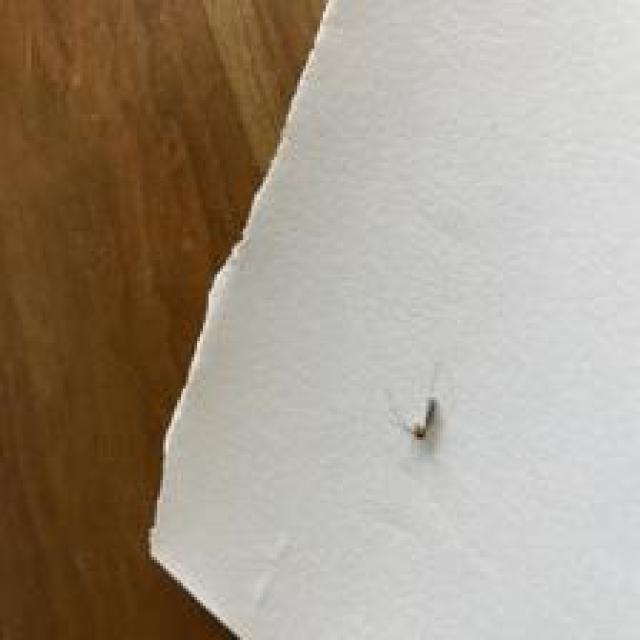Culex: (406, 396, 437, 438)
